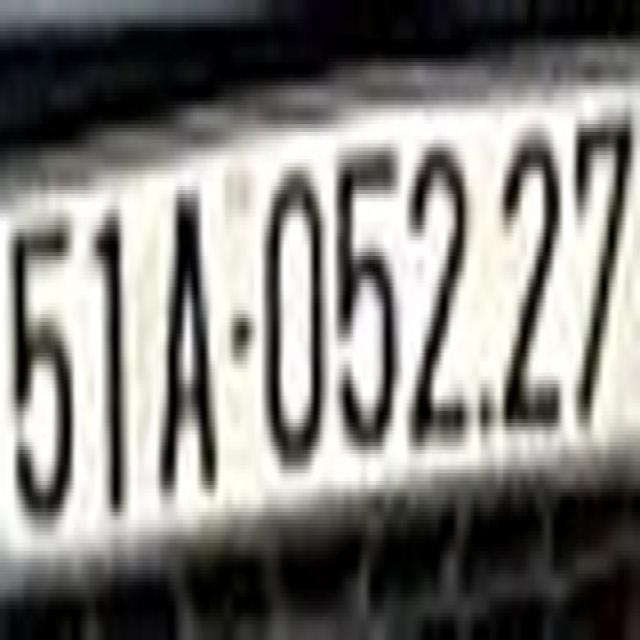0: (264, 155, 318, 469)
1: (95, 209, 127, 516)
2: (406, 124, 472, 450), (501, 120, 562, 438)
5: (335, 143, 397, 454), (12, 213, 72, 528)
7: (575, 93, 633, 427)
A: (155, 182, 221, 504)
